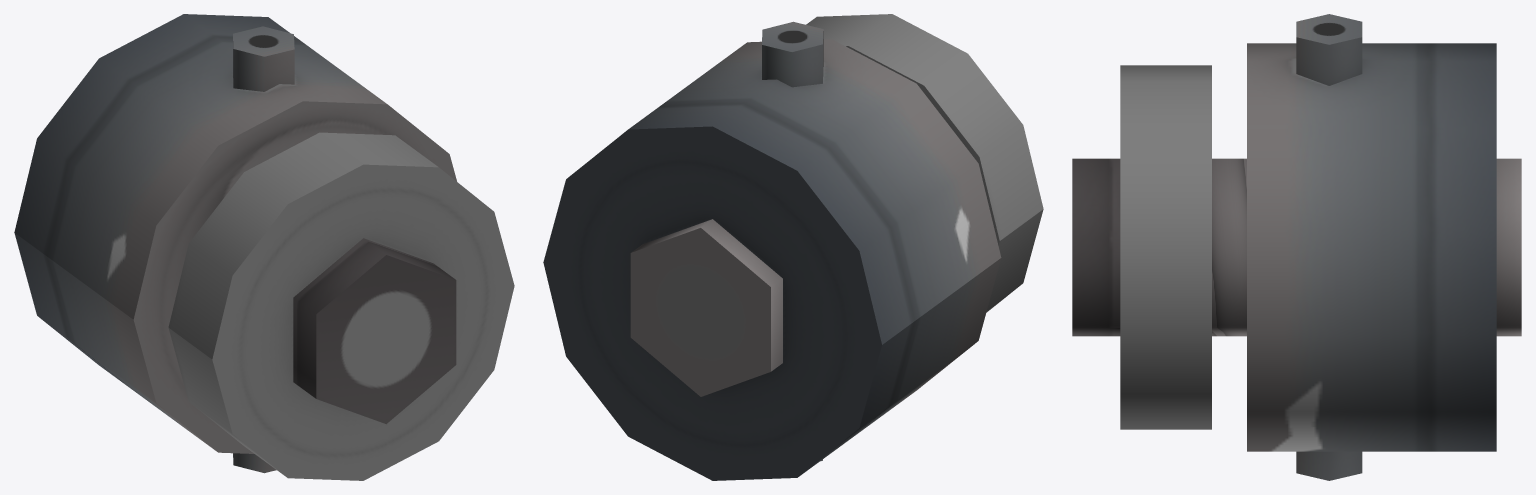
File: obj_interactive_suspensionsport_01_on.fbx
The picture shows the model from 3 angles, left to right: view 1: azimuth 30°, elevation 25°; view 2: azimuth 150°, elevation 25°; view 3: azimuth 270°, elevation 25°; orthographic projection. The views are drawn at different scales.
Parts seen in each view (by area): view 1: obj_interactive_suspensionsport_01_on; view 2: obj_interactive_suspensionsport_01_on; view 3: obj_interactive_suspensionsport_01_on.
Boxes of the visible parts, x1,y1,x2,y2 form: obj_interactive_suspensionsport_01_on: [14, 14, 514, 480]; obj_interactive_suspensionsport_01_on: [543, 14, 1043, 480]; obj_interactive_suspensionsport_01_on: [1072, 14, 1521, 480].
Size of the model in its own units: 1.09 by 1.29 by 1.2.
